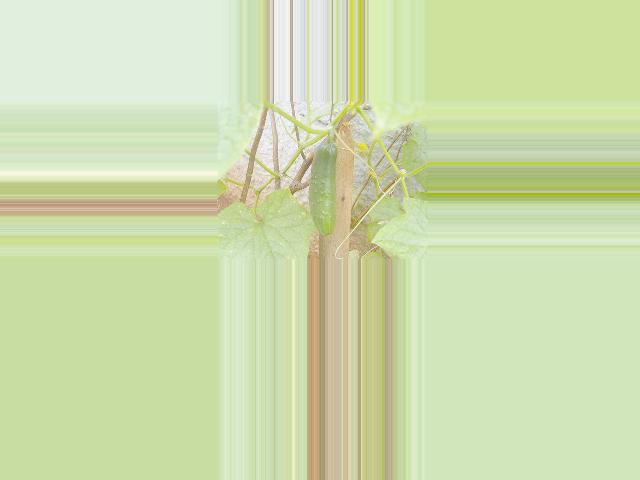cucumber: (309, 141, 338, 236)
